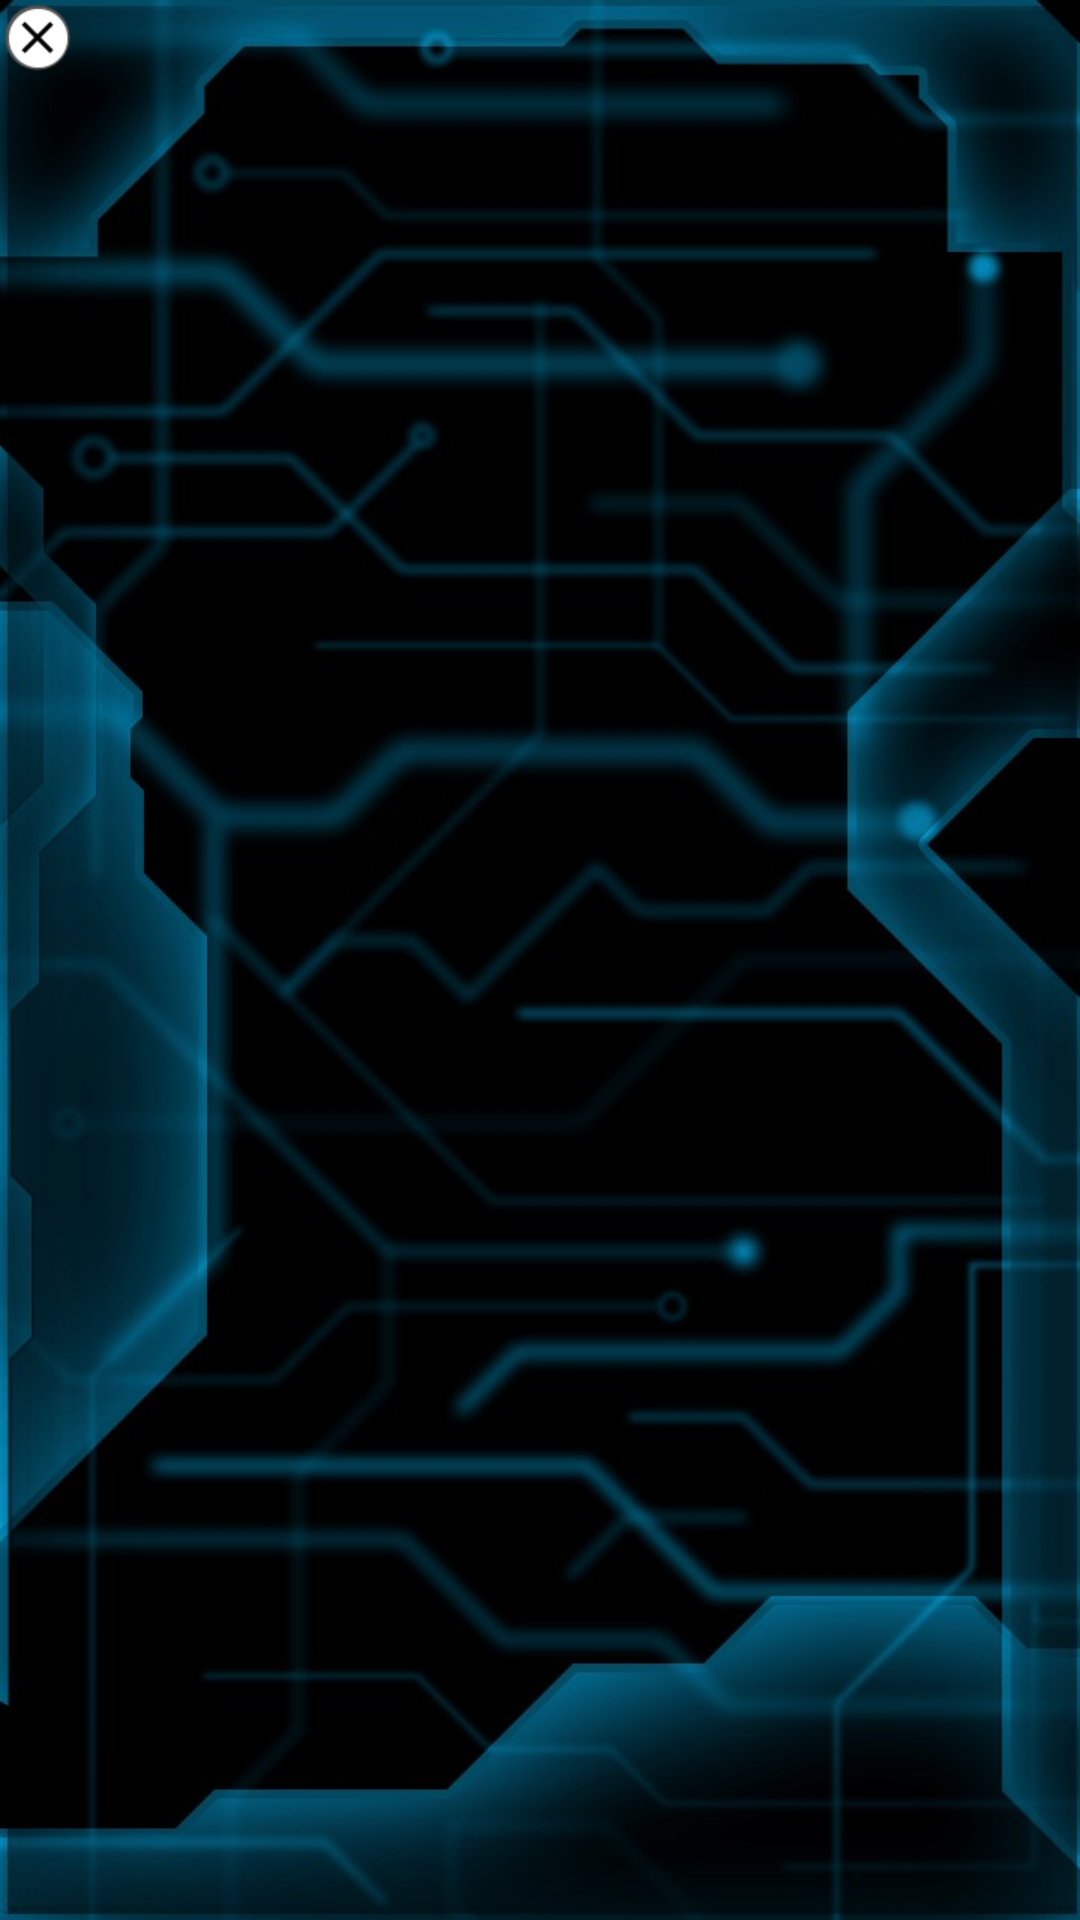

Named icons in this screenshot (1080px×1920px) and their centers, [x,y]:
close rounded: [37,37]
